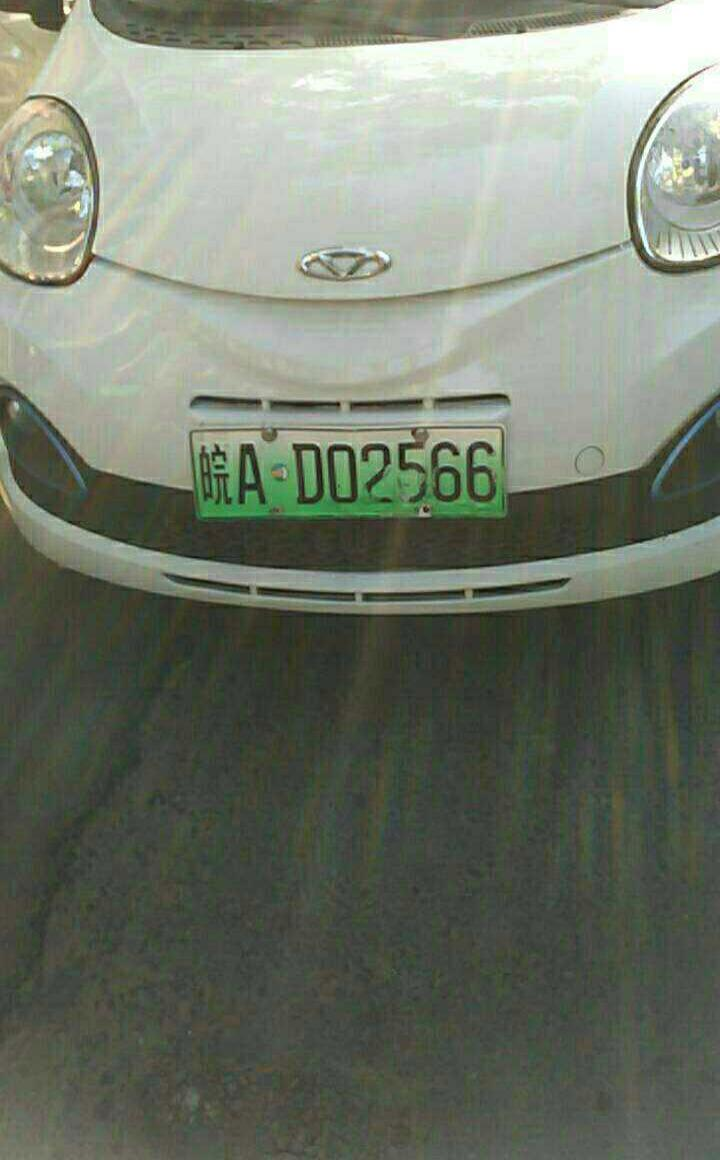car_id: (188, 425, 503, 519)
